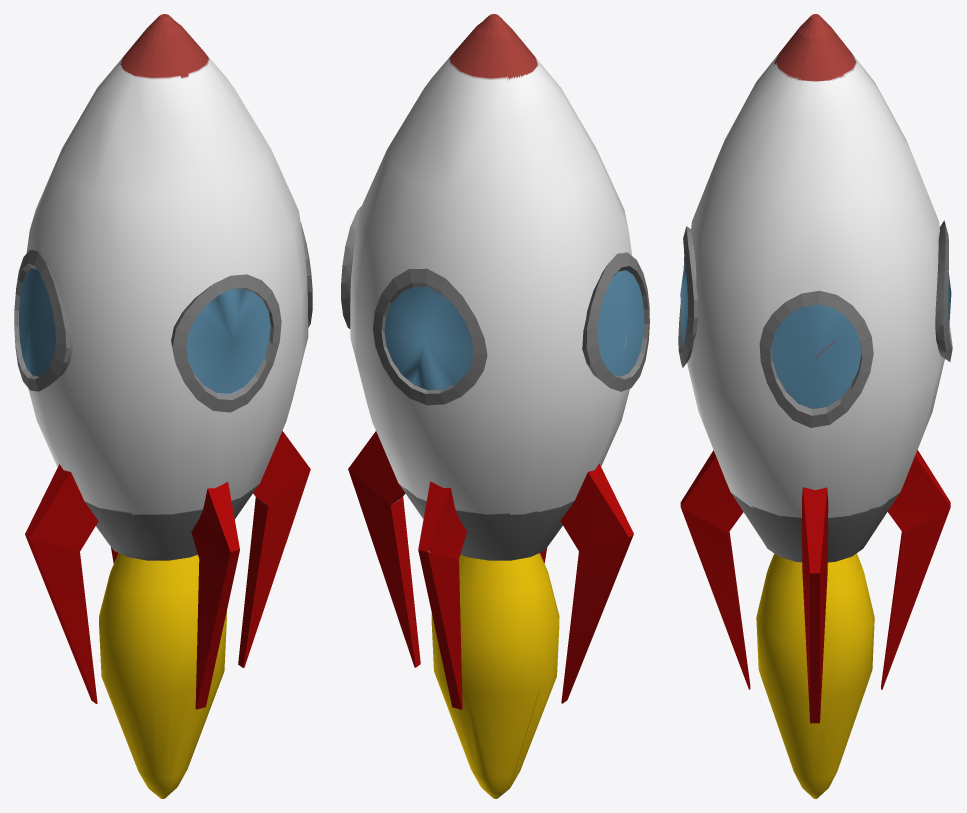
Rendered from cohete.obj.
3 renders of one model, left to right at view 1: azimuth 30°, elevation 25°; view 2: azimuth 150°, elevation 25°; view 3: azimuth 270°, elevation 25°, orthographic.
Parts seen in each view (by area): view 1: pCube1_blinn1, pCube1_PATAS, pCube1_FLAMA1, pCube1_BAJA, pCube1_VIDRIO, pCube1_COPA1; view 2: pCube1_blinn1, pCube1_PATAS, pCube1_FLAMA1, pCube1_BAJA, pCube1_VIDRIO, pCube1_COPA1; view 3: pCube1_blinn1, pCube1_FLAMA1, pCube1_PATAS, pCube1_BAJA, pCube1_VIDRIO, pCube1_COPA1.
Part boxes in pixels (bbox=[...]): pCube1_blinn1: bbox=[26, 54, 308, 514]; pCube1_PATAS: bbox=[25, 431, 310, 709]; pCube1_FLAMA1: bbox=[99, 553, 226, 798]; pCube1_BAJA: bbox=[14, 222, 312, 560]; pCube1_VIDRIO: bbox=[19, 268, 270, 393]; pCube1_COPA1: bbox=[120, 14, 209, 79]; pCube1_blinn1: bbox=[350, 53, 632, 514]; pCube1_PATAS: bbox=[348, 431, 633, 709]; pCube1_FLAMA1: bbox=[431, 553, 559, 798]; pCube1_BAJA: bbox=[341, 206, 649, 560]; pCube1_VIDRIO: bbox=[384, 270, 644, 390]; pCube1_COPA1: bbox=[449, 14, 537, 79]; pCube1_blinn1: bbox=[687, 55, 944, 517]; pCube1_FLAMA1: bbox=[756, 553, 874, 798]; pCube1_PATAS: bbox=[680, 450, 950, 723]; pCube1_BAJA: bbox=[678, 220, 952, 562]; pCube1_VIDRIO: bbox=[680, 260, 951, 408]; pCube1_COPA1: bbox=[774, 14, 856, 81].
Bounding box in the file's own units: 4.08 × 10.83 × 3.44.
7 materials, 7 textured.
